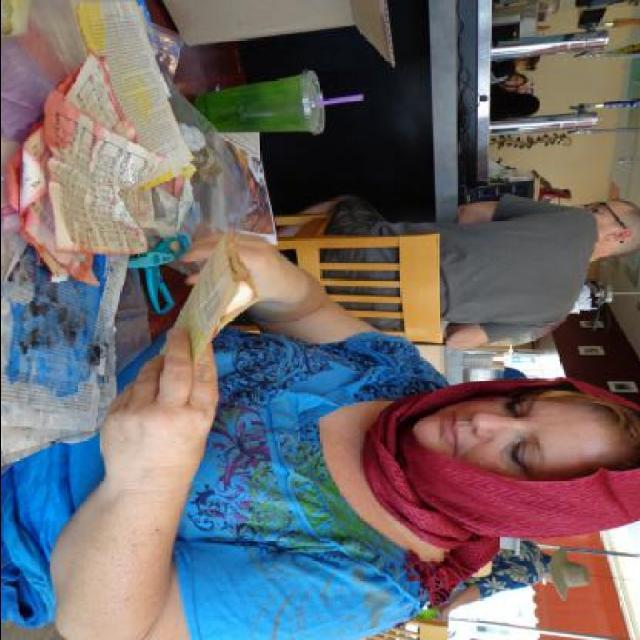Juice: (184, 72, 308, 134)
